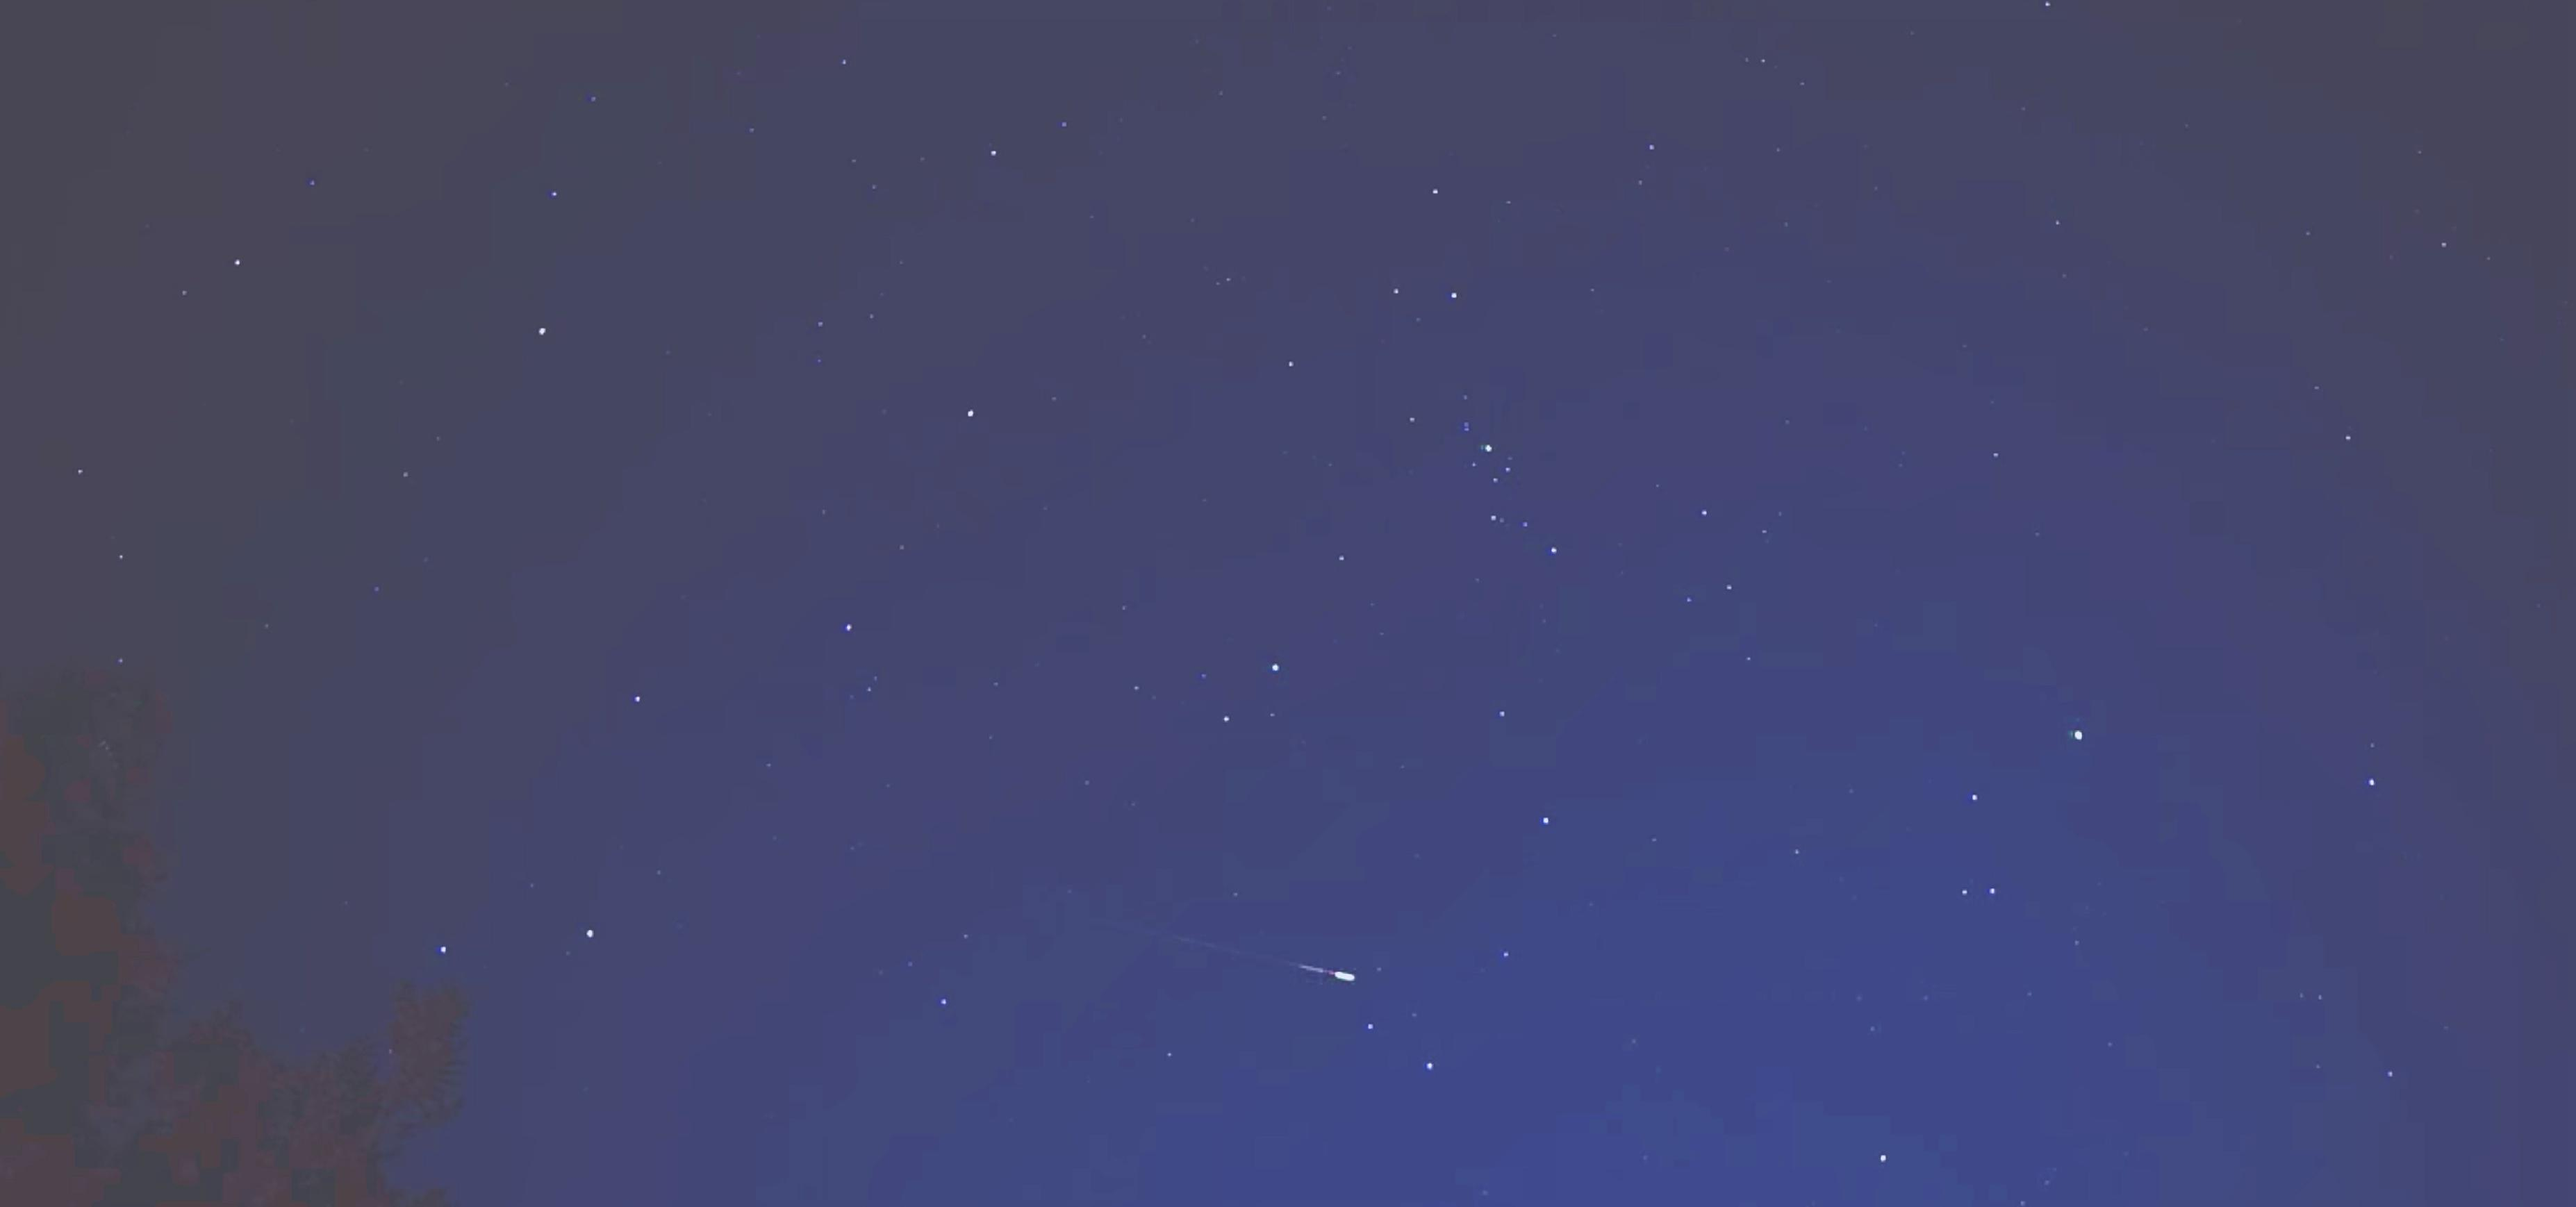meteorite: (1124, 915, 1395, 997)
